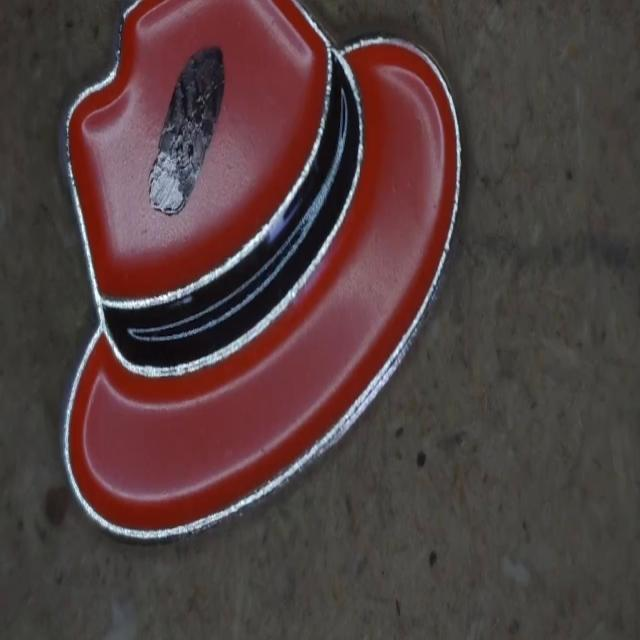Hatband: (102, 53, 361, 371)
Paint_Leak: (150, 47, 224, 214)
RedHatPin: (64, 0, 460, 538)
